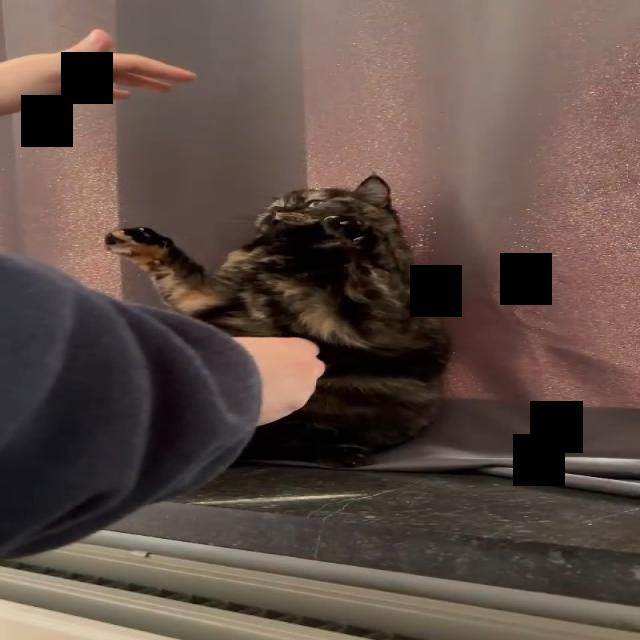authorized: (103, 173, 452, 469)
